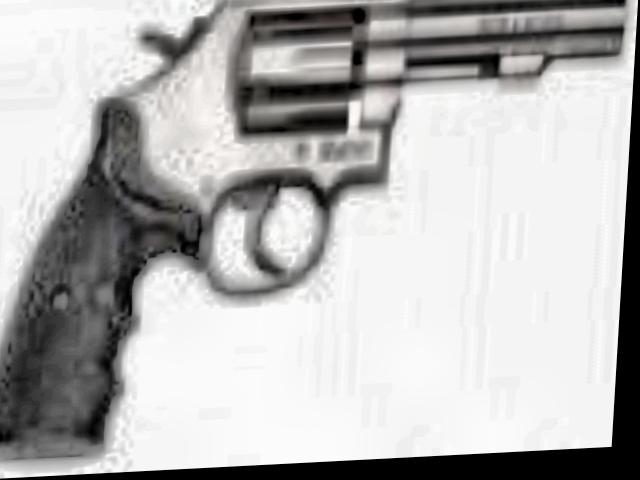pistol: (0, 0, 628, 456)
